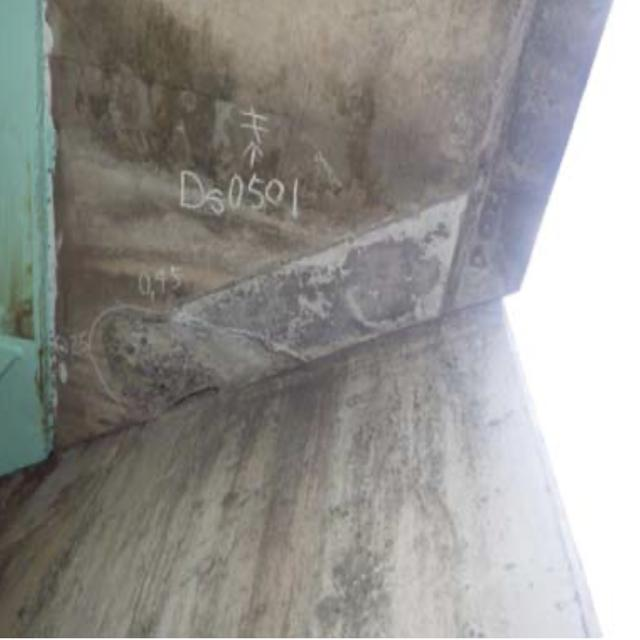spalling: (88, 289, 276, 420)
